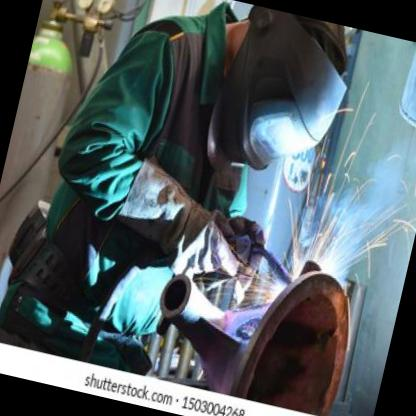Gloves: (106, 149, 260, 296), (214, 211, 270, 300)
